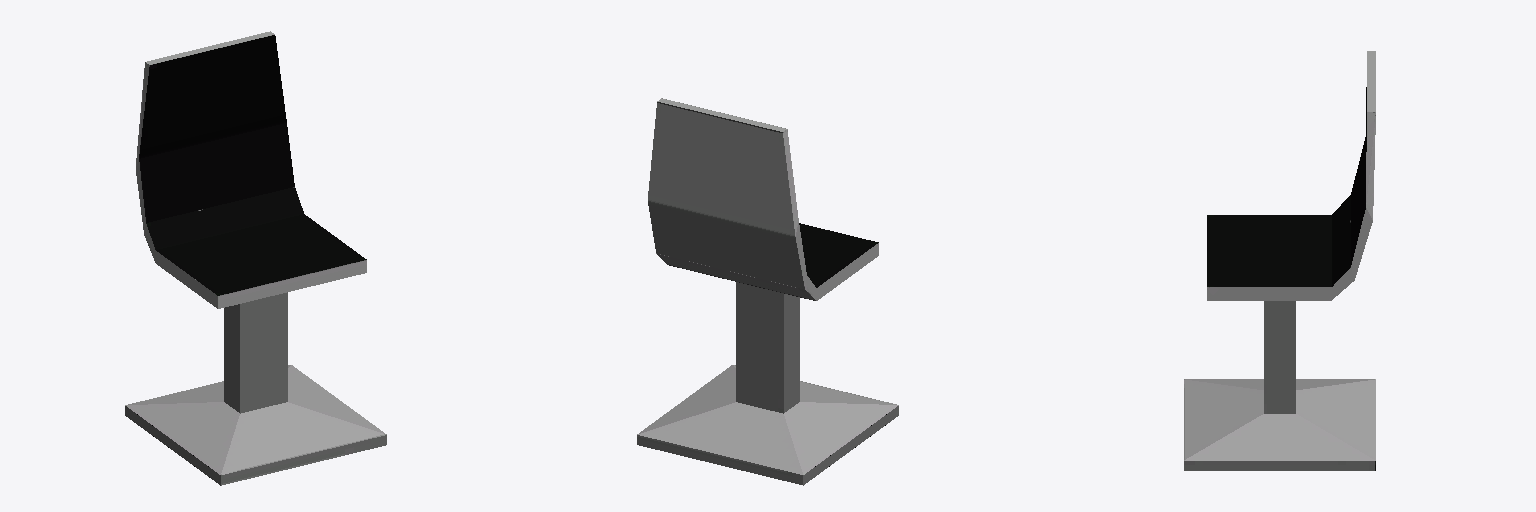
3 views of the same model, side by side, from view 1: azimuth 30°, elevation 25°; view 2: azimuth 150°, elevation 25°; view 3: azimuth 270°, elevation 25° (orthographic).
Visible parts, largest first — view 1: Ppart1; view 2: Ppart1; view 3: Ppart1.
Boxes of the visible parts, x1,y1,x2,y2 form: Ppart1: [125, 31, 386, 485]; Ppart1: [637, 98, 898, 485]; Ppart1: [1184, 51, 1375, 470].
Size of the model in its own units: 2 by 4 by 2.
Materials: 1 (1 with a texture image).